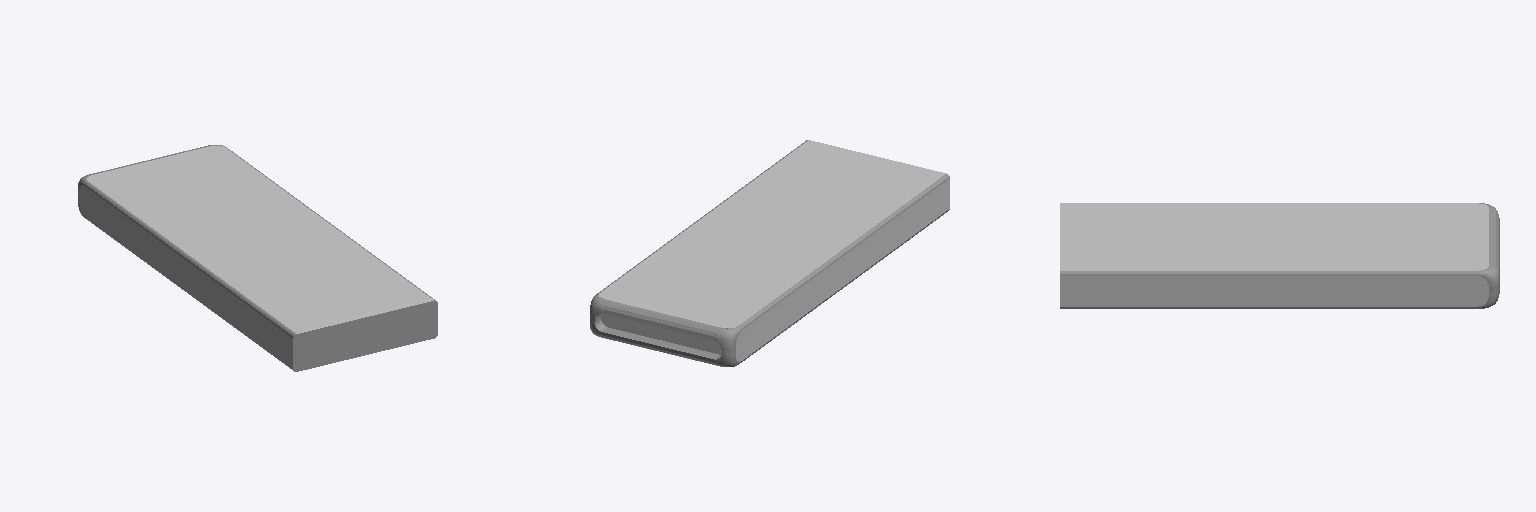
Rendered from thick-deep-medium.obj.
The picture shows the model from 3 angles: view 1: azimuth 30°, elevation 25°; view 2: azimuth 150°, elevation 25°; view 3: azimuth 270°, elevation 25°; orthographic projection.
Parts seen in each view (by area): view 1: thick-deep-medium; view 2: thick-deep-medium; view 3: thick-deep-medium.
Part boxes in pixels (left/top/right/bottom): thick-deep-medium: left=78, top=145, right=437, bottom=371; thick-deep-medium: left=590, top=140, right=949, bottom=366; thick-deep-medium: left=1060, top=203, right=1499, bottom=308.
Size of the model in its own units: 4 by 1 by 10.5.